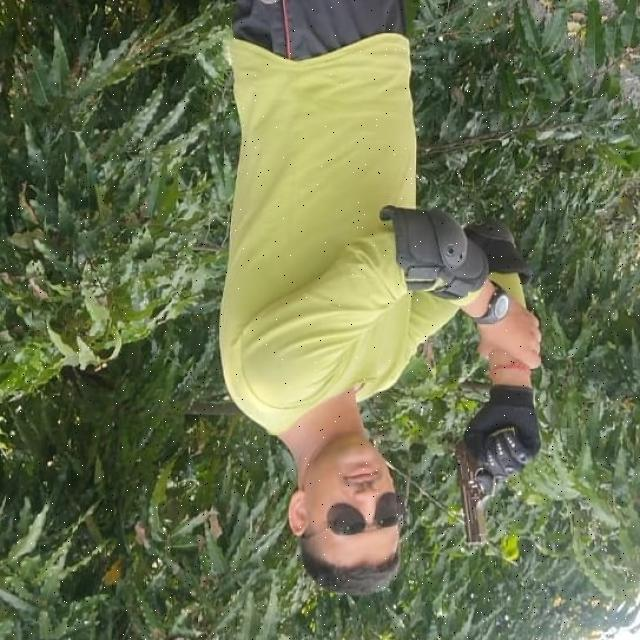gun: (444, 431, 503, 554)
